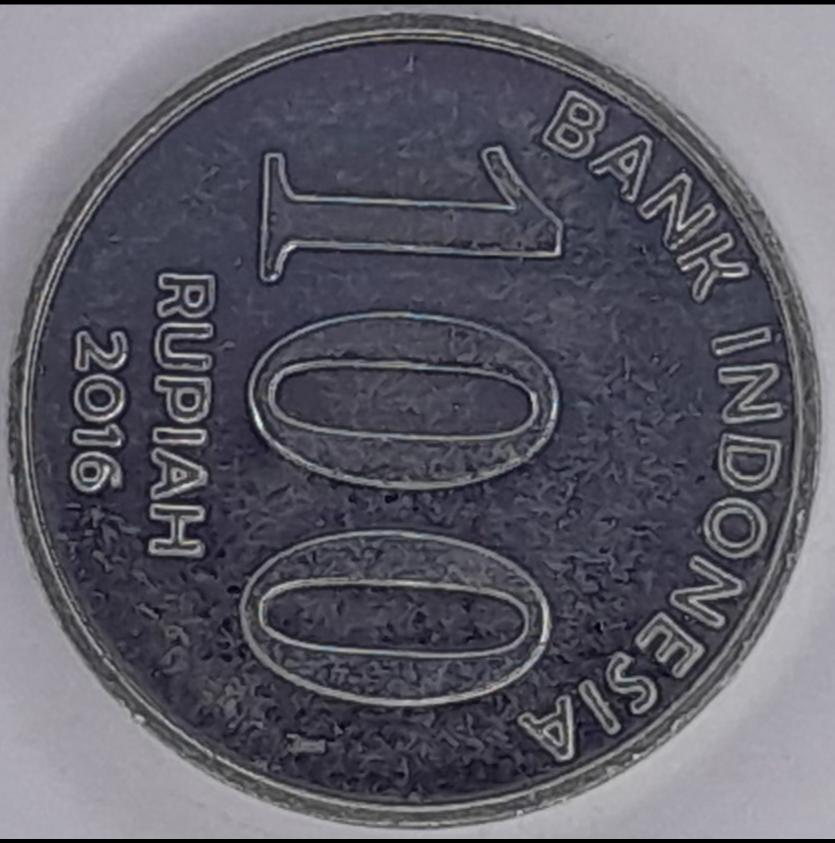coin_100_e2016: (2, 9, 825, 829)
